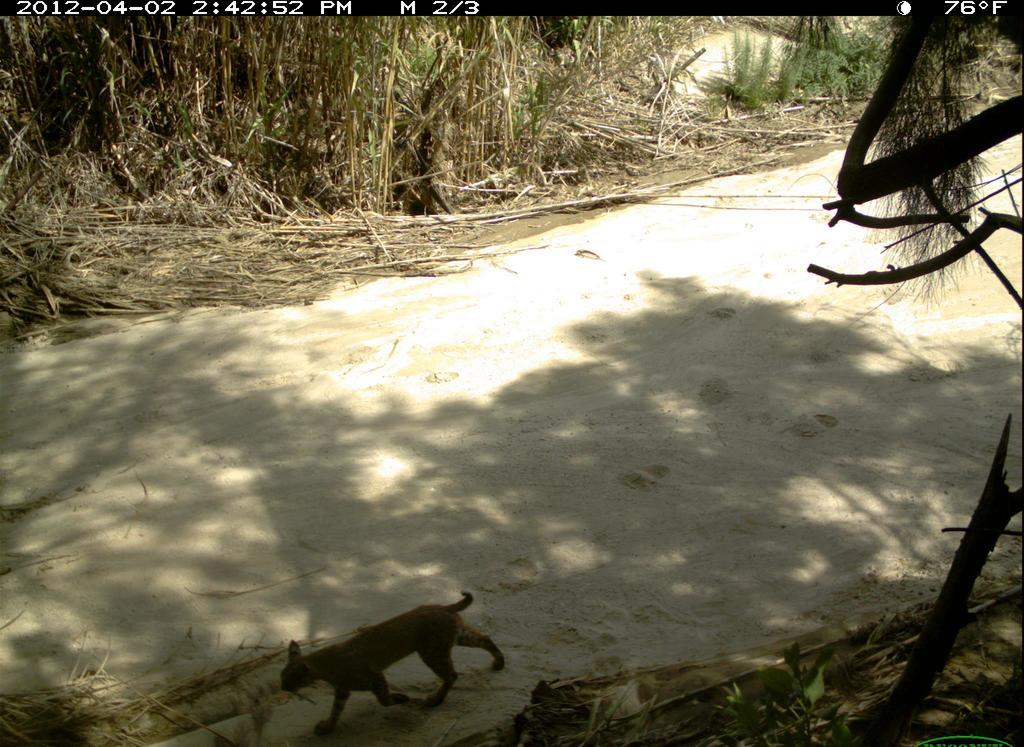bobcat: (253, 578, 562, 733)
